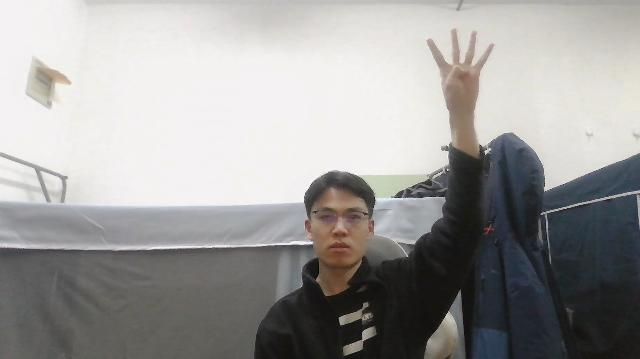four: (425, 25, 495, 112)
